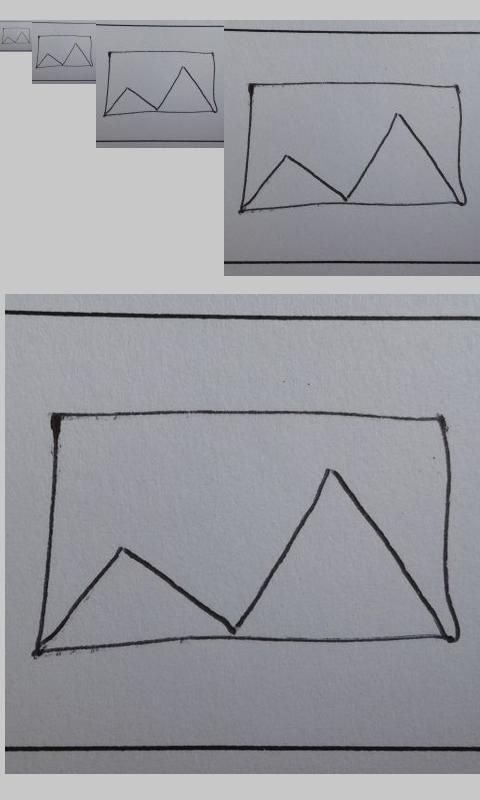image_view: (31, 407, 461, 663), (235, 78, 467, 219), (104, 50, 218, 118), (35, 34, 93, 69), (2, 27, 31, 45)
